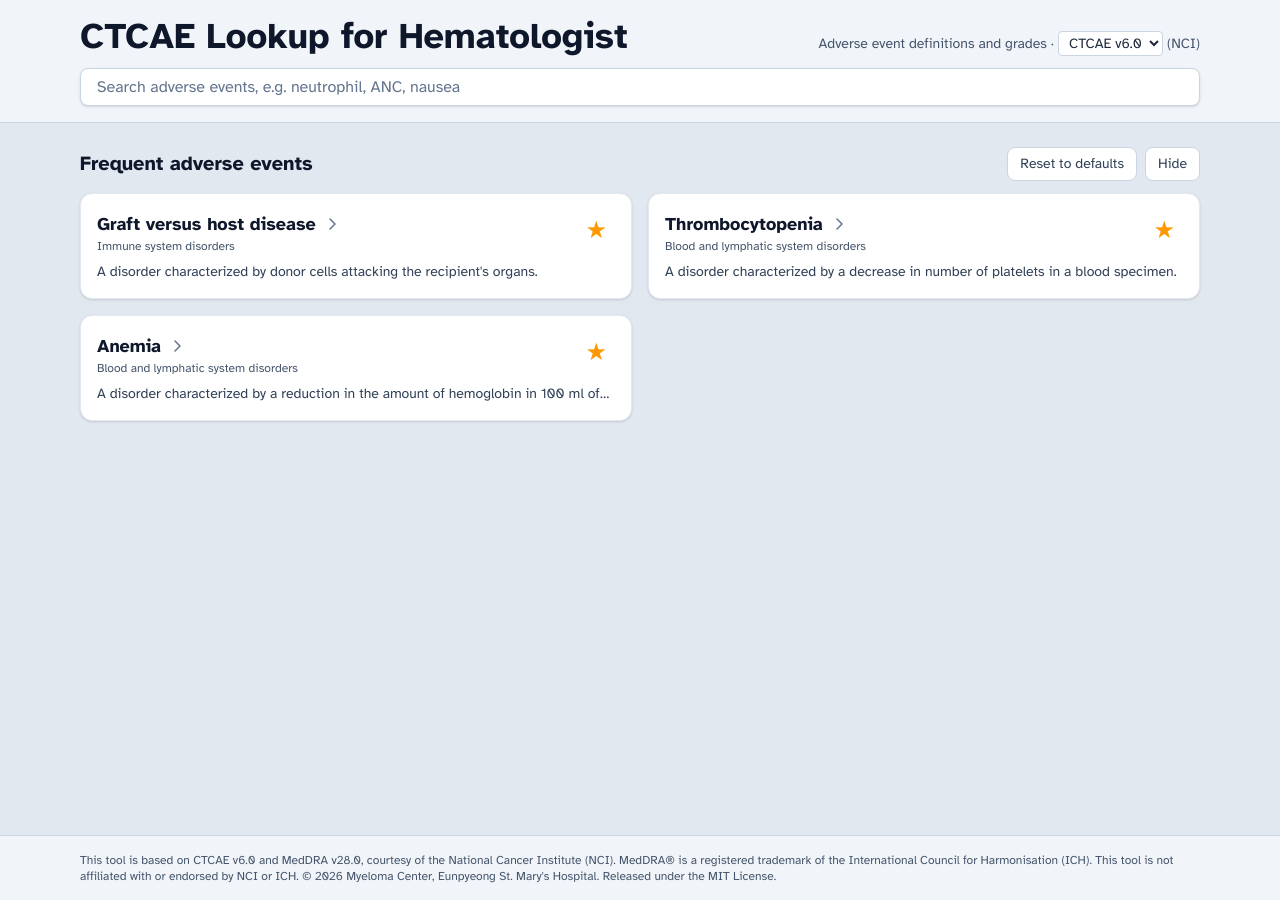
favorites missing from the selected version are kept and counted
The width and height of the screenshot is (1280, 900).
Select "CTCAE v5.0" in the dropdown named "CTCAE version" at (1110, 44), box [1058,31,1163,56]
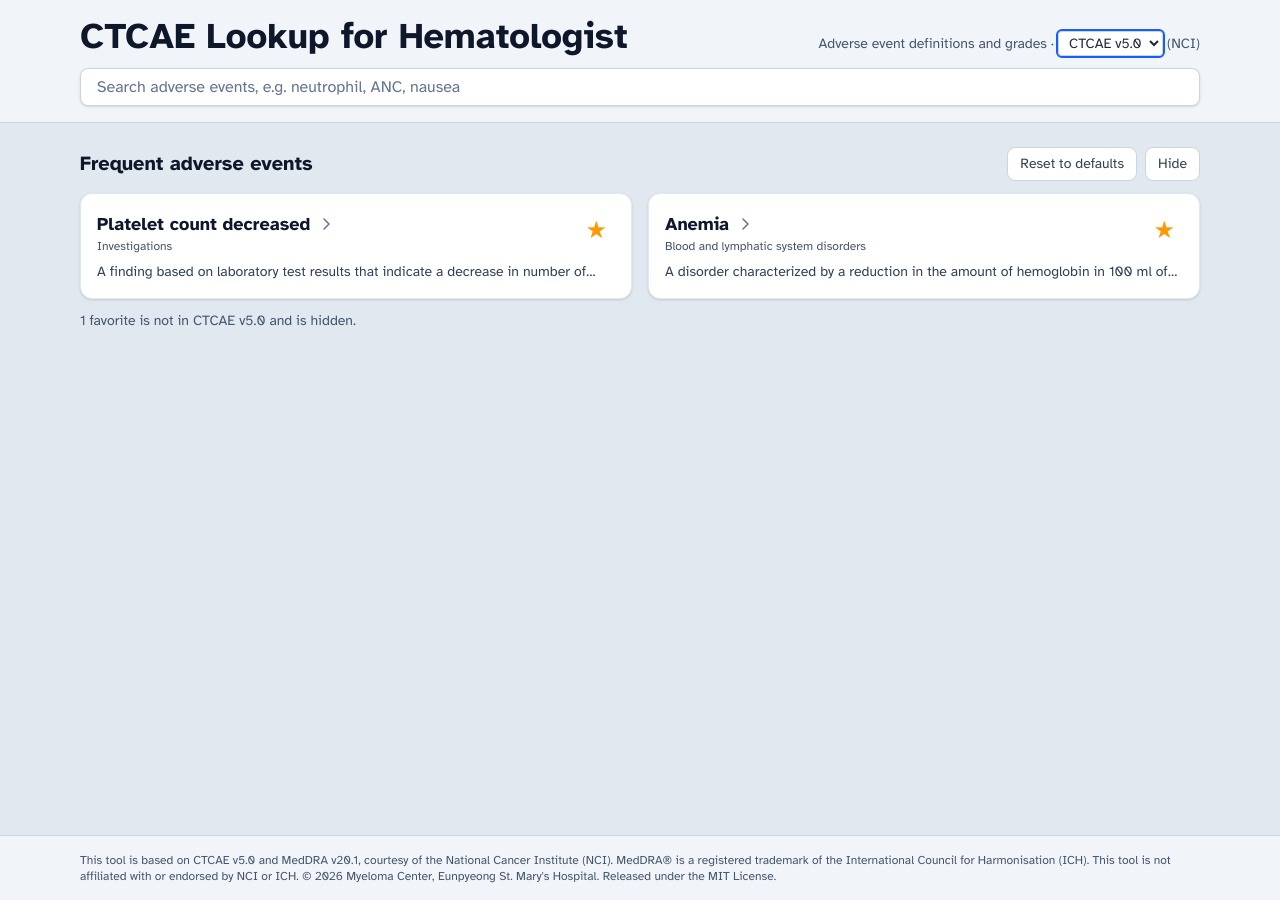
Now the text "1 favorite is not in CTCAE v5.0 and is hidden." is shown, box [80,312,356,329]
Note: Editing favorites in v5.0 keeps the v6.0-only one.
Click the button named "Remove from favorites" at (1164, 230), box [1146,210,1183,250]
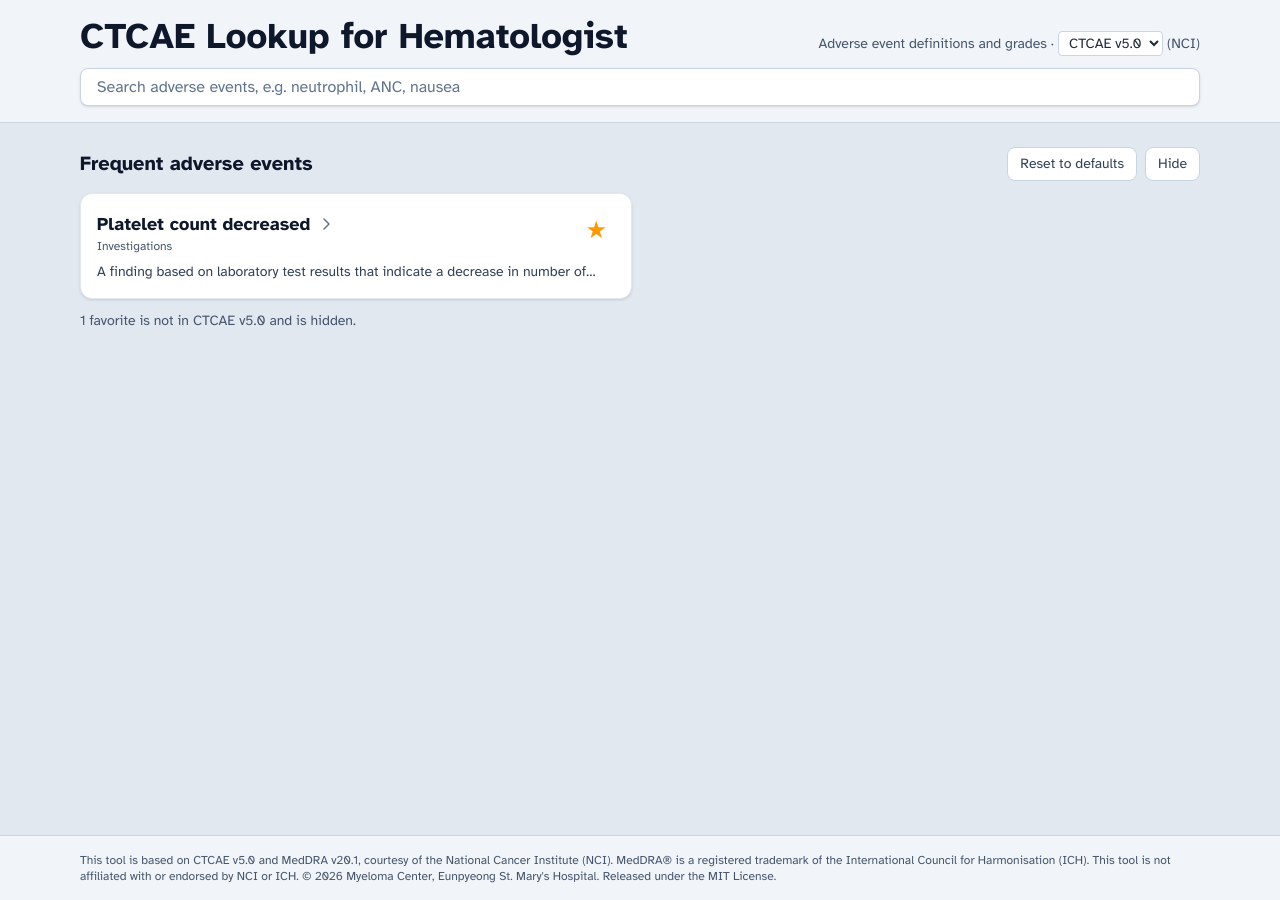
Select "CTCAE v6.0" in the dropdown named "CTCAE version" at (1110, 44), box [1058,31,1163,56]
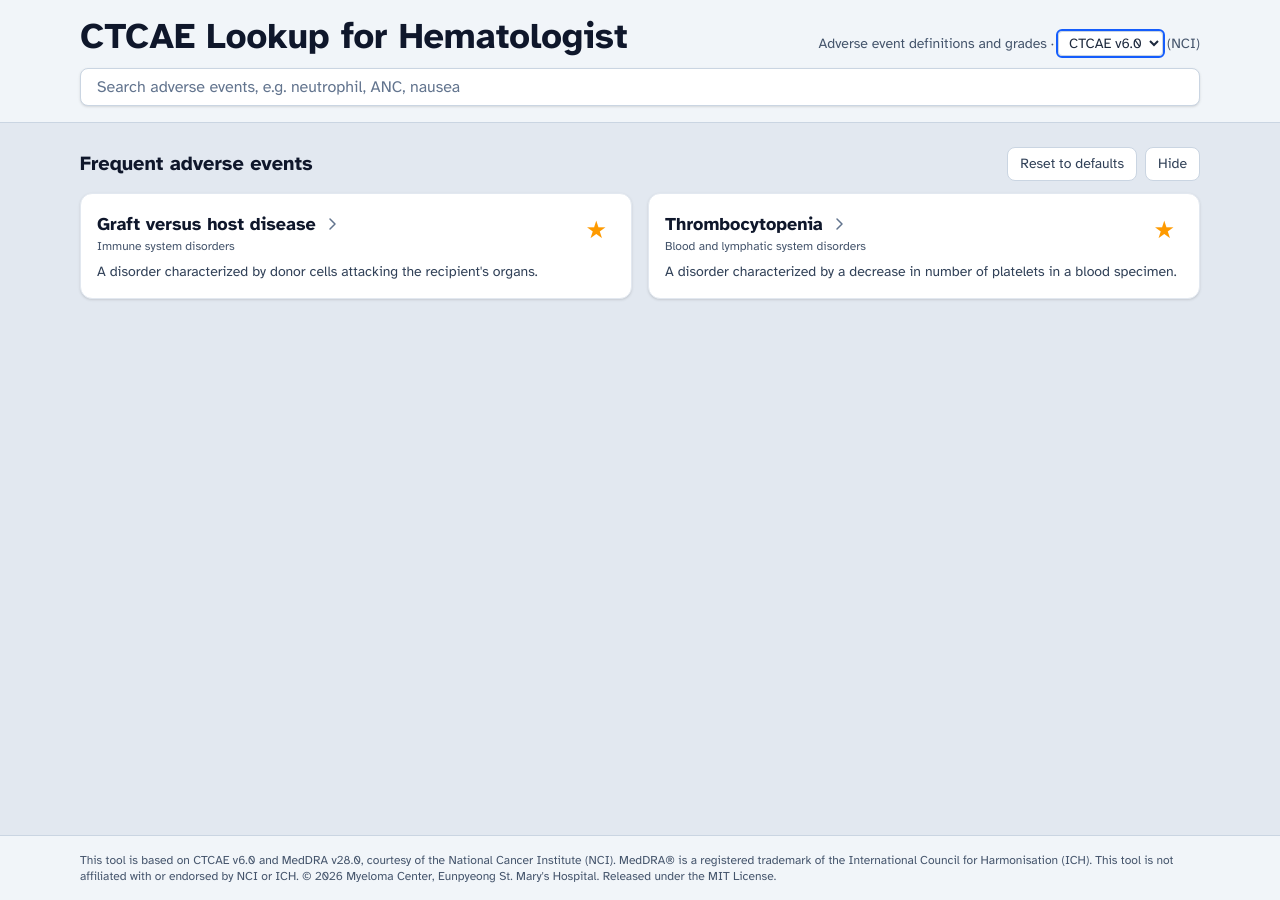
Now the text "not in CTCAE" is gone
